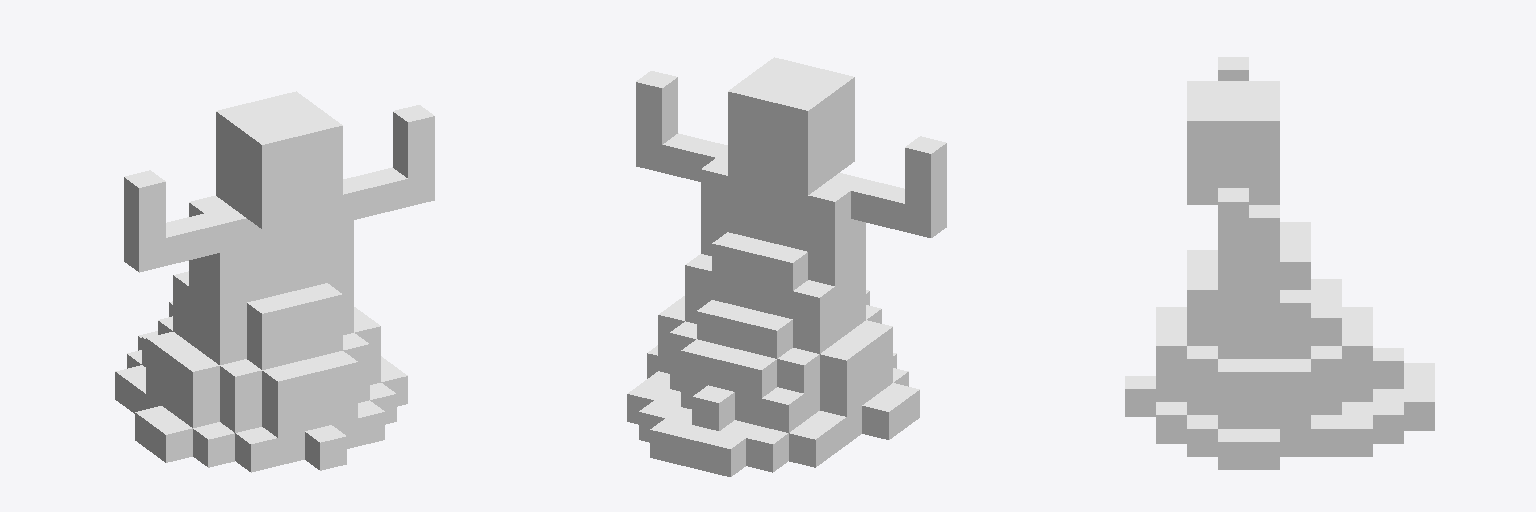
The model's file is take_dmg.obj.
3 views of the same model, side by side, from view 1: azimuth 30°, elevation 25°; view 2: azimuth 150°, elevation 25°; view 3: azimuth 270°, elevation 25° (orthographic).
Size of the model in its own units: 11 by 11 by 10.